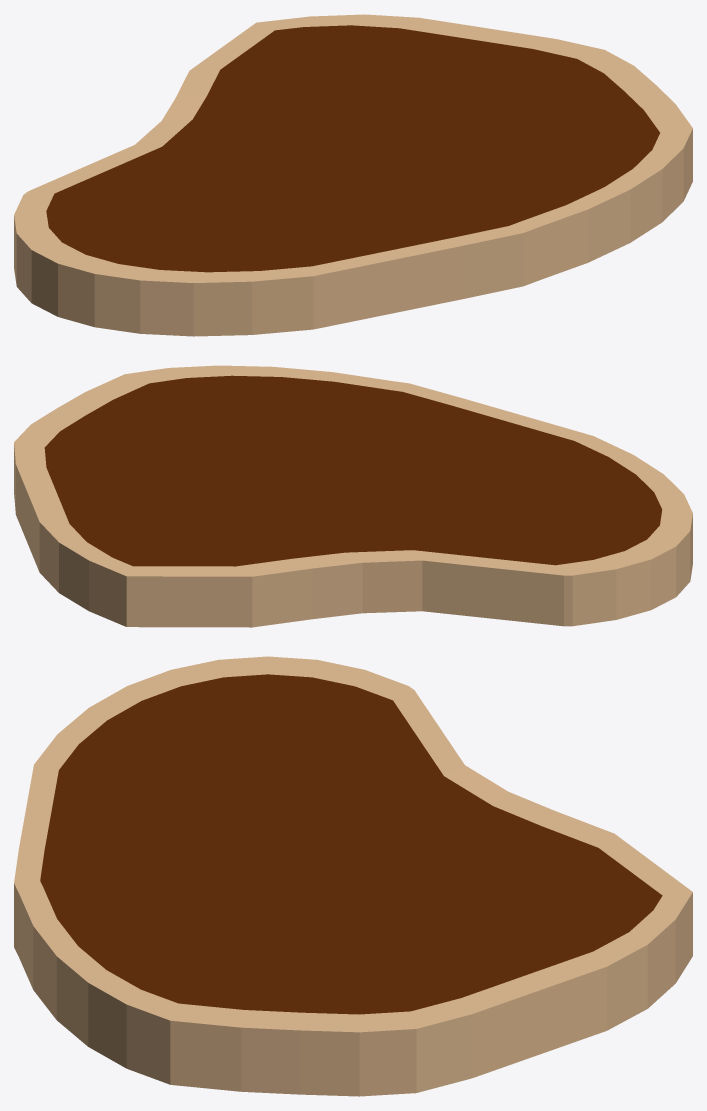
The model's file is steak_cooked.fbx.
3 views of the same model, one above another, from view 1: azimuth 30°, elevation 25°; view 2: azimuth 150°, elevation 25°; view 3: azimuth 270°, elevation 25° (orthographic). The views are drawn at different scales.
Parts seen in each view (by area): view 1: Cylinder; view 2: Cylinder; view 3: Cylinder.
Part boxes in pixels (bbox=[...]): Cylinder: bbox=[14, 14, 692, 336]; Cylinder: bbox=[14, 365, 692, 627]; Cylinder: bbox=[14, 656, 692, 1096].
Size of the model in its own units: 409 by 32.59 by 313.
